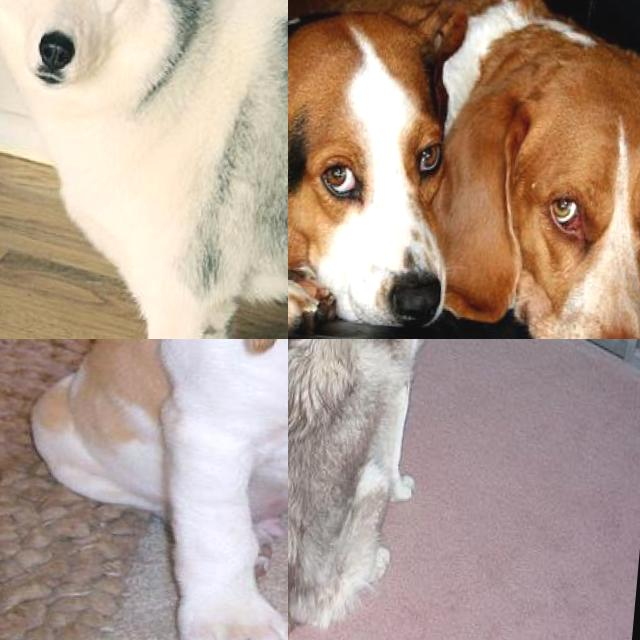eyes: (294, 126, 456, 215), (530, 168, 640, 268), (19, 0, 150, 34), (423, 339, 455, 356)
nose: (324, 243, 467, 339), (537, 286, 640, 339), (24, 20, 85, 84), (456, 339, 491, 352)
tail: (288, 560, 377, 640)
